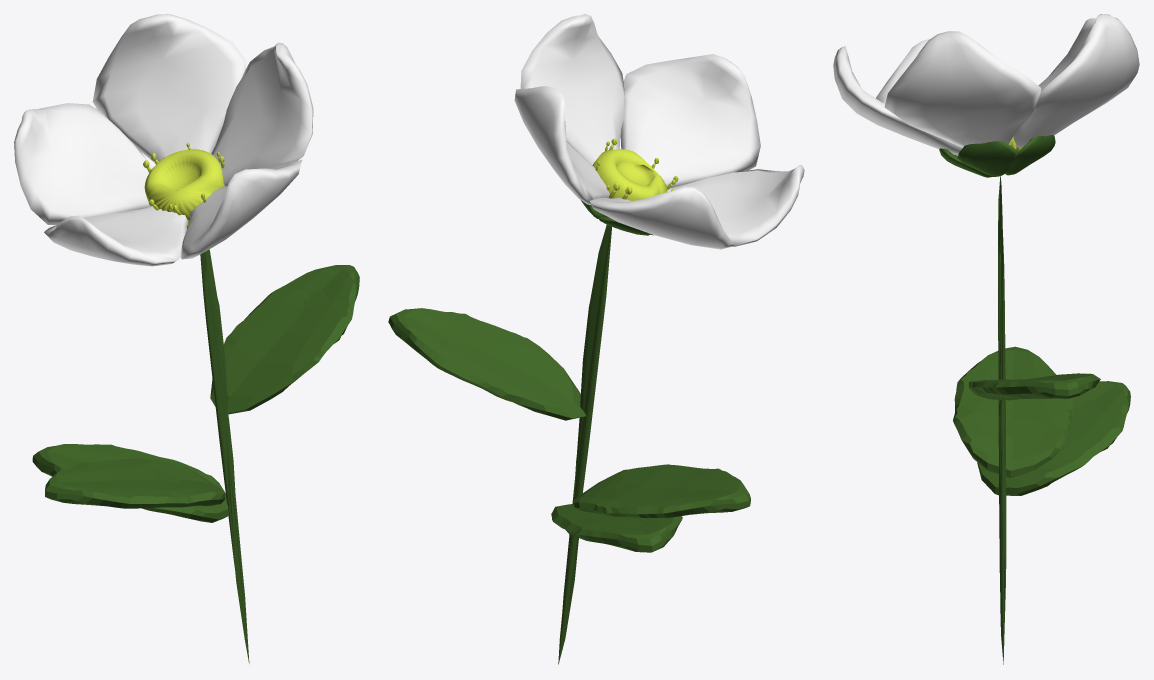
Rendered from Anxiety_Hellebore.glb.
The picture shows the model from 3 angles, left to right: view 1: azimuth 30°, elevation 25°; view 2: azimuth 150°, elevation 25°; view 3: azimuth 270°, elevation 25°; orthographic projection.
Parts seen in each view (by area): view 1: Cube.003; view 2: Cube.003; view 3: Cube.003.
Boxes of the visible parts, x1,y1,x2,y2 form: Cube.003: (14,14,359,663); Cube.003: (388,14,804,664); Cube.003: (833,14,1139,664).
Bounding box in the file's own units: 2.85 × 4.89 × 2.13.
